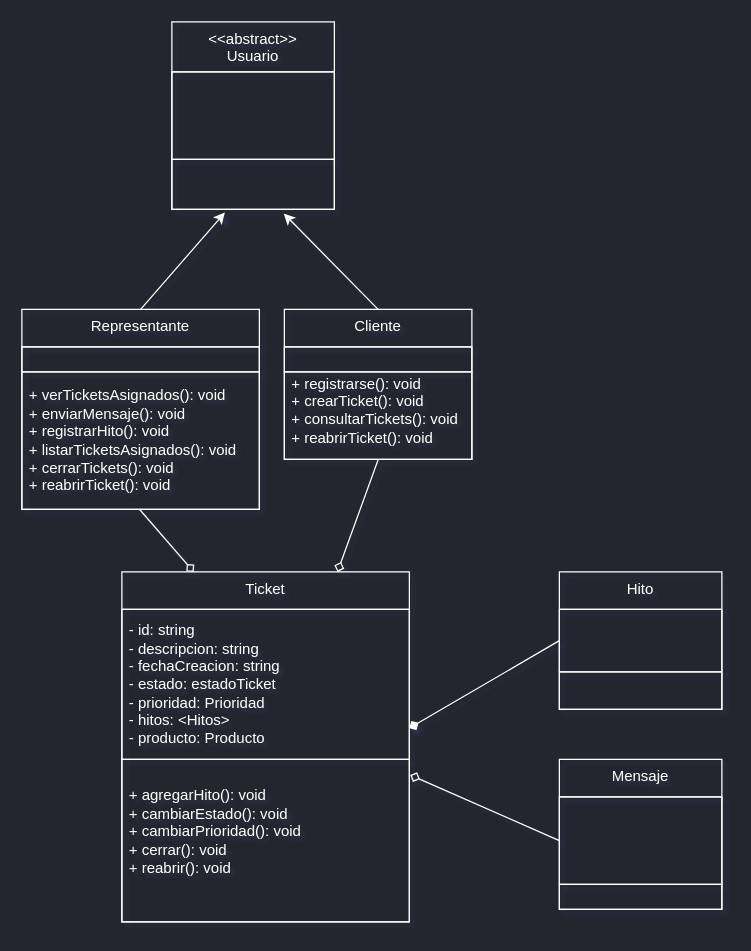
Some shapes in this 751 by 951 pixel diagram are drawn without their labels. The shapes that lost their labels are listed below. From the top down, each one's centre as x and y in pixels, then its label:
At [252,115]: "- id: string - nombre: string - mail: string - psw: string".
At [252,183]: "+ iniciarSesion(): bool + cerrarSesion(): bool".
At [140,359]: "disponible: bool".
At [640,640]: "- id: string - fecha: string - descripcion: string".
At [640,840]: "- id: string - fecha: string - remitente: usuario - contenido: string".
